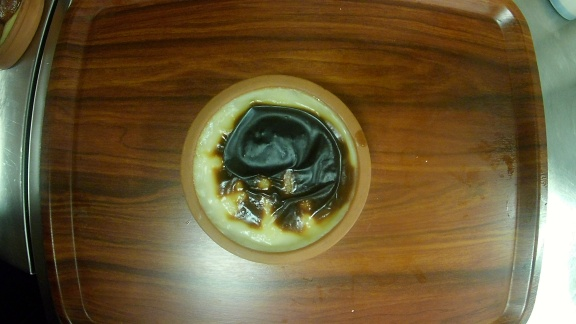sutlac: (182, 74, 372, 262)
